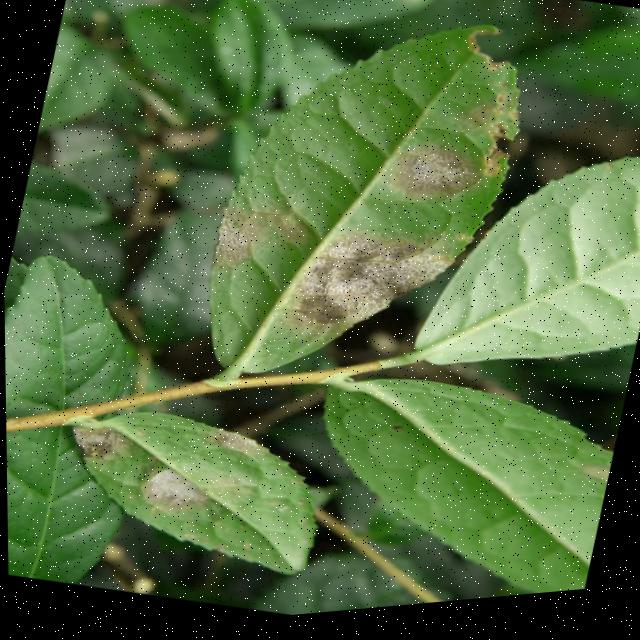Tea exobasidium blight: (291, 206, 474, 376), (197, 188, 304, 309), (363, 128, 483, 229), (139, 460, 219, 541), (59, 415, 146, 484), (190, 410, 268, 472)
